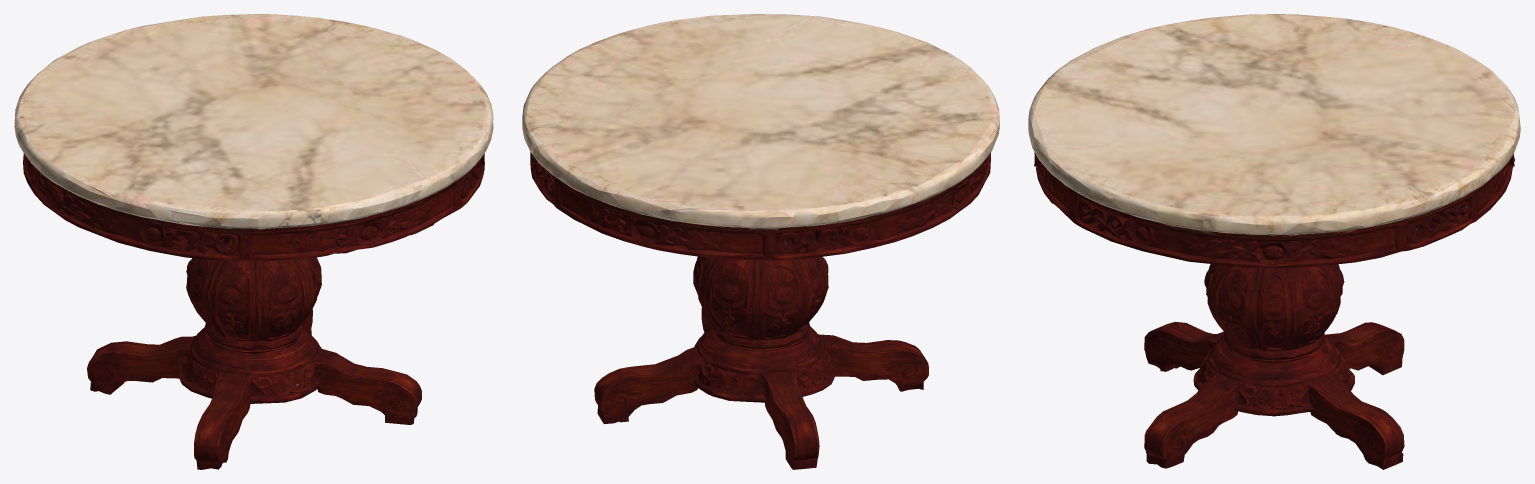
File: w5dintable.glb
3 renders of one model, left to right at view 1: azimuth 30°, elevation 25°; view 2: azimuth 150°, elevation 25°; view 3: azimuth 270°, elevation 25°, orthographic. The views are drawn at different scales.
Parts seen in each view (by area): view 1: output_unwrapped; view 2: output_unwrapped; view 3: output_unwrapped.
Part boxes in pixels (bbox=[...]): output_unwrapped: bbox=[14, 14, 493, 469]; output_unwrapped: bbox=[522, 14, 999, 469]; output_unwrapped: bbox=[1028, 14, 1520, 469].
Bounding box in the file's own units: 1.3 × 0.8726 × 1.3.
Materials: 1 (1 with a texture image).
